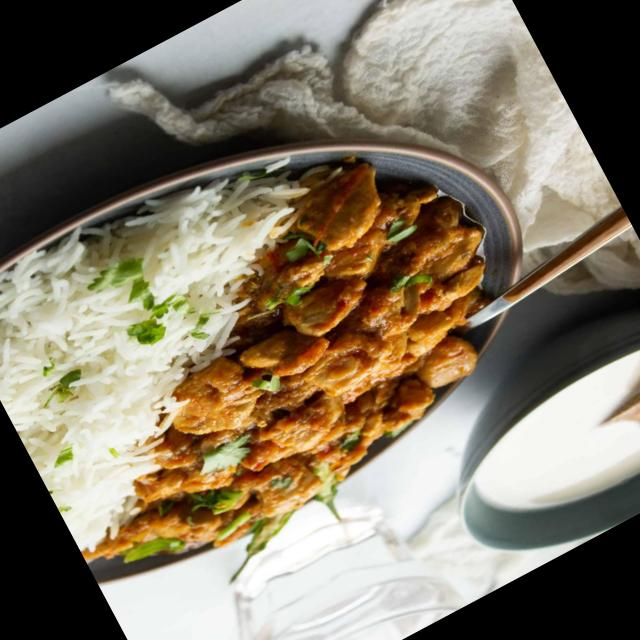chicken: (74, 199, 537, 575)
rice: (0, 156, 291, 496)
